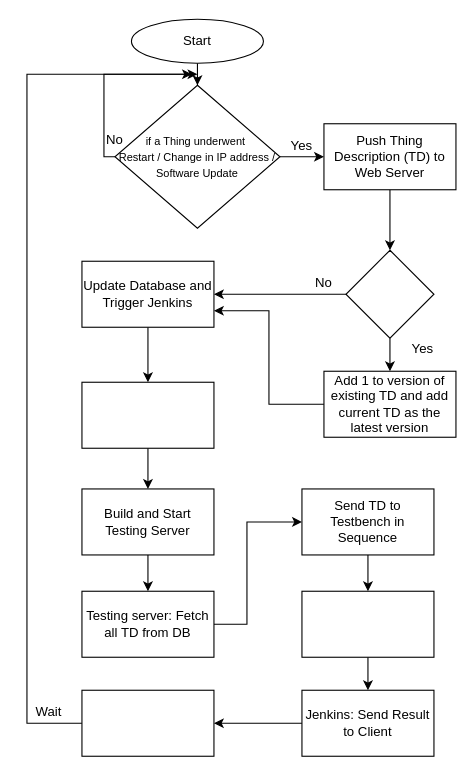
This 475x776 diagram has some shape labels left out. The shapes that lost their labels are listed below. From the top down, each one's box as (x1, y1, x2, y2) in pixels, then its label:
(345, 249, 434, 338): Check if TD exists
(81, 381, 214, 448): Build and Start Testbench in background
(301, 590, 434, 657): Testbench: Send Result to Jenkins
(81, 689, 214, 756): Jenkins: Clean Workspace
